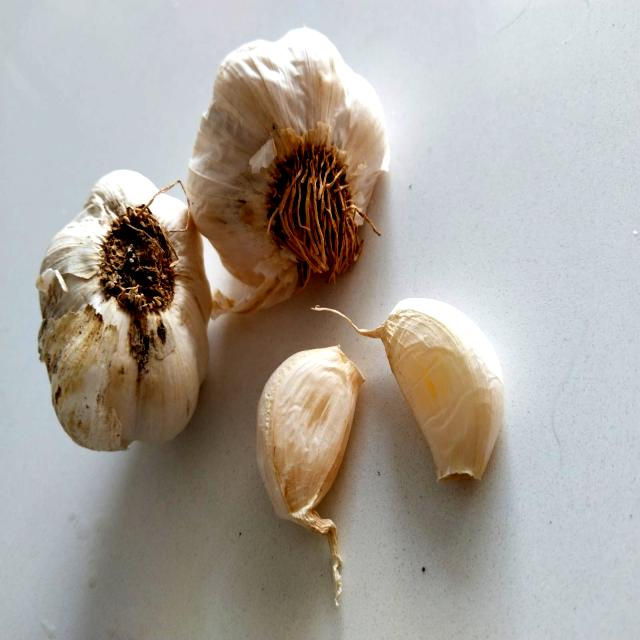garlic: (25, 142, 211, 468), (185, 24, 394, 290), (231, 329, 368, 560), (376, 294, 524, 497)
